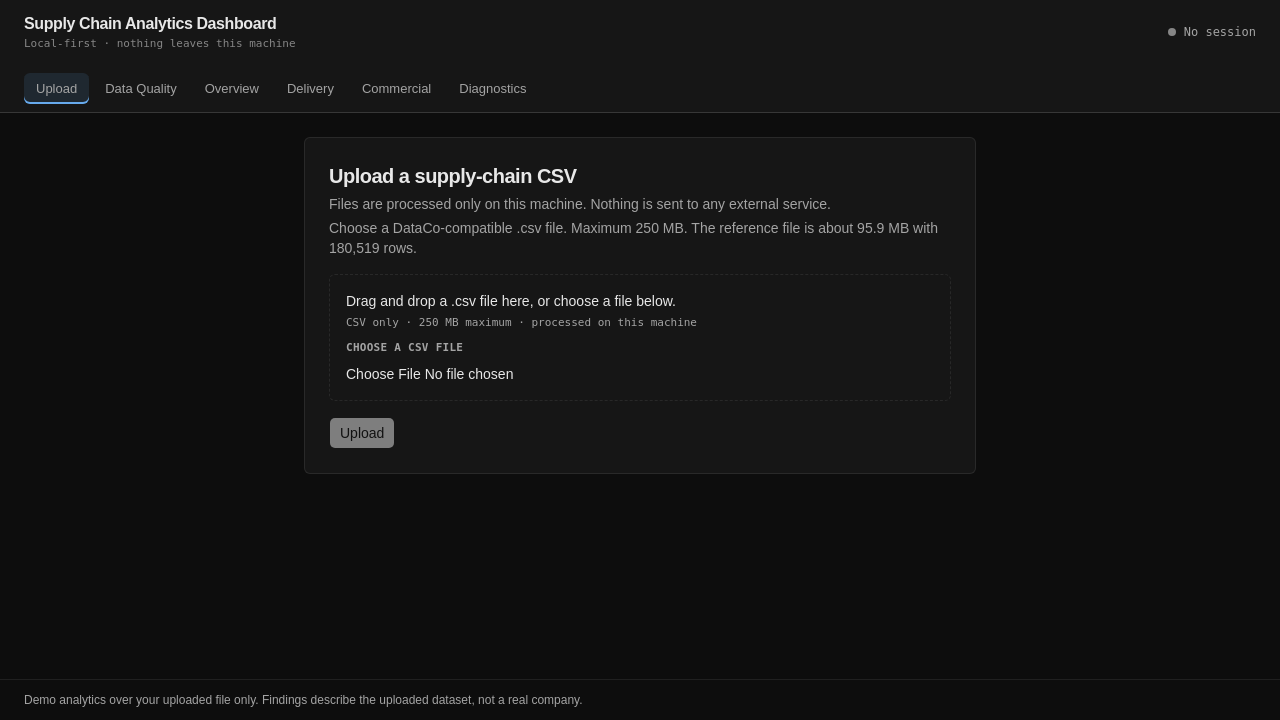
Test: Phase-11 Data Quality view › renders the governed empty state without requesting reports
The image size is (1280, 720).
Step 1. Click the button "Data Quality" → (141, 88), box [93,72,189,104]
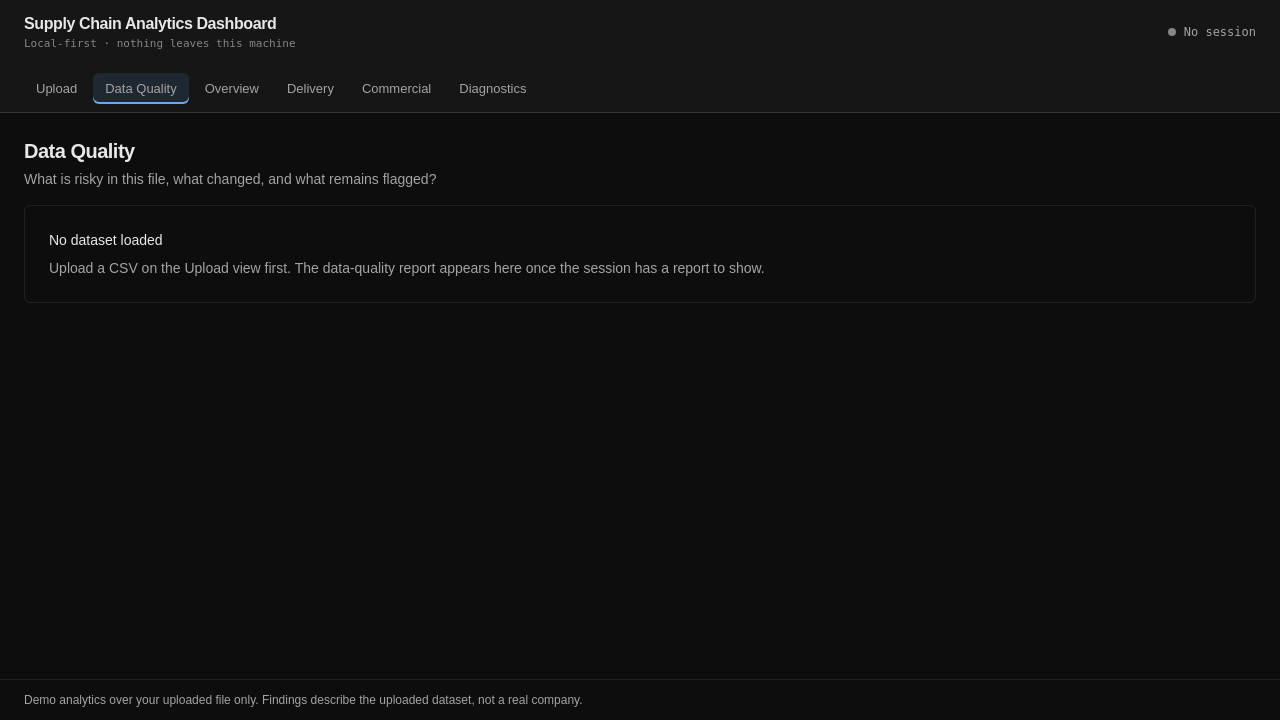
Expected: the heading "Data Quality" is shown, [24,140,135,162]
Expected: the text "No dataset loaded" is shown, [49,230,163,250]
